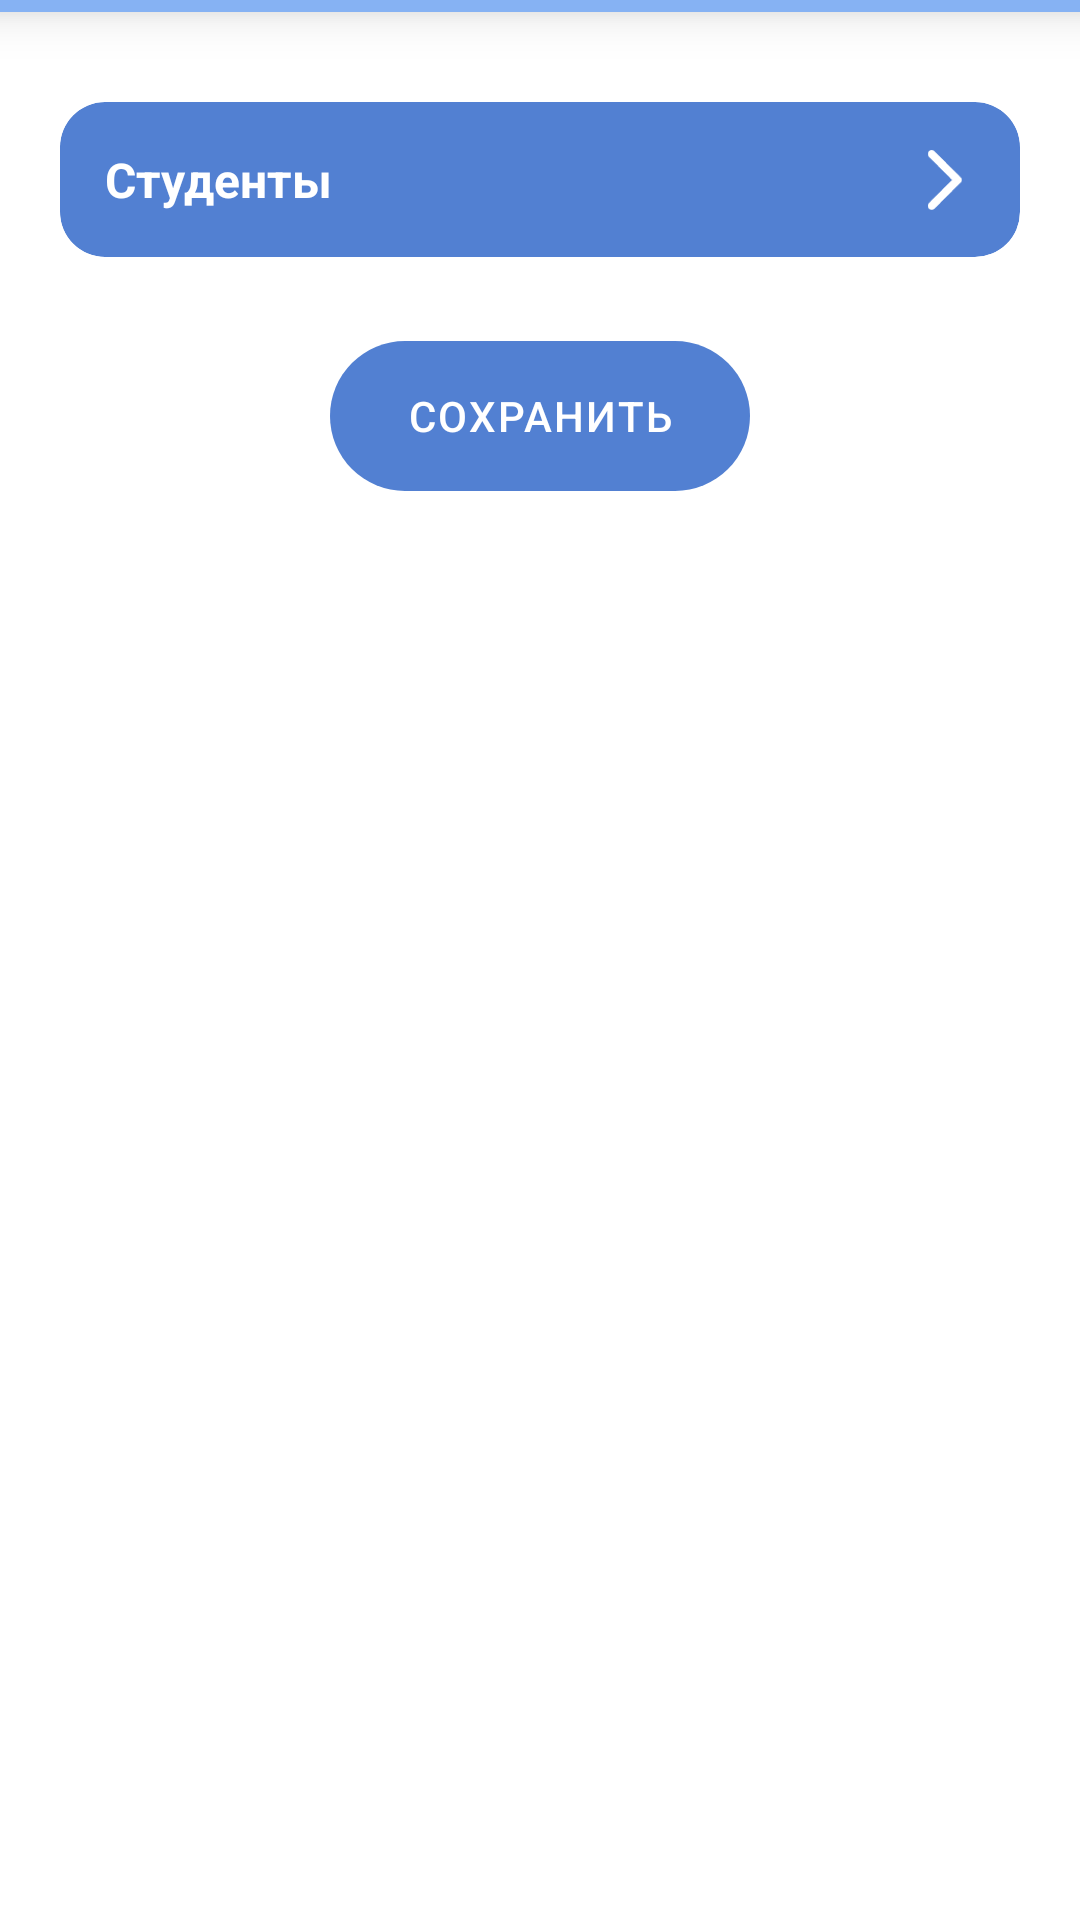

Screen size 1080px×1920px. Icon name, then its center in pixels as (x,y):
forward variant: (945,180)
